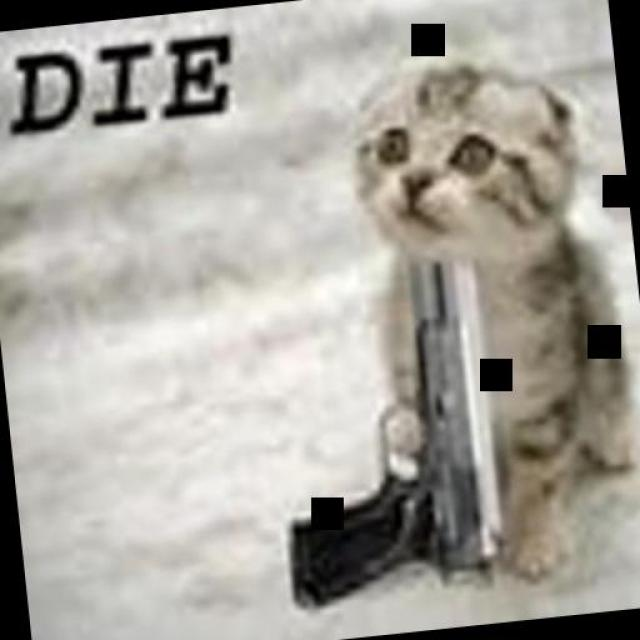gun: (250, 242, 519, 608)
